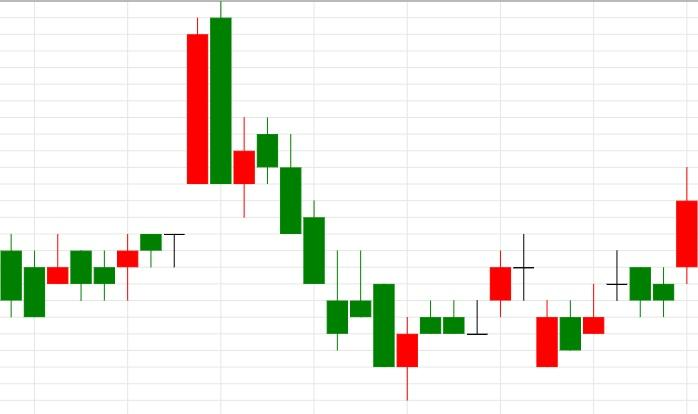bearish_engulfing_fall: (23, 0, 232, 317)
